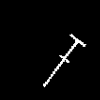double_crochet: (43, 34, 85, 86)
